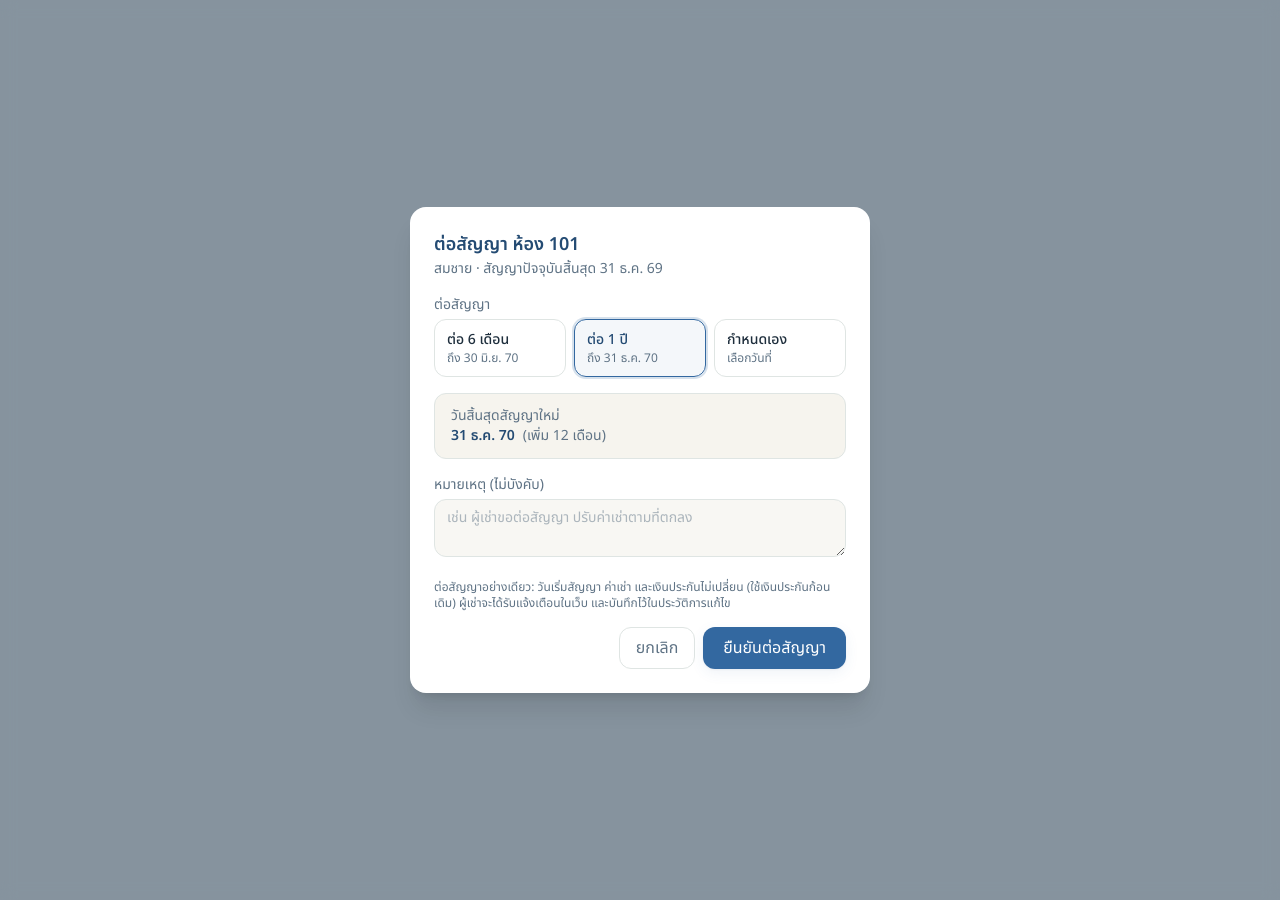
Test: RenewContractModal › กำหนดเอง: ยังไม่เลือกวัน กดยืนยันไม่ได้ และไม่ส่งคำสั่ง
Click the button "กำหนดเอง เลือกวันที่" at (780, 348), box [714,319,846,377]
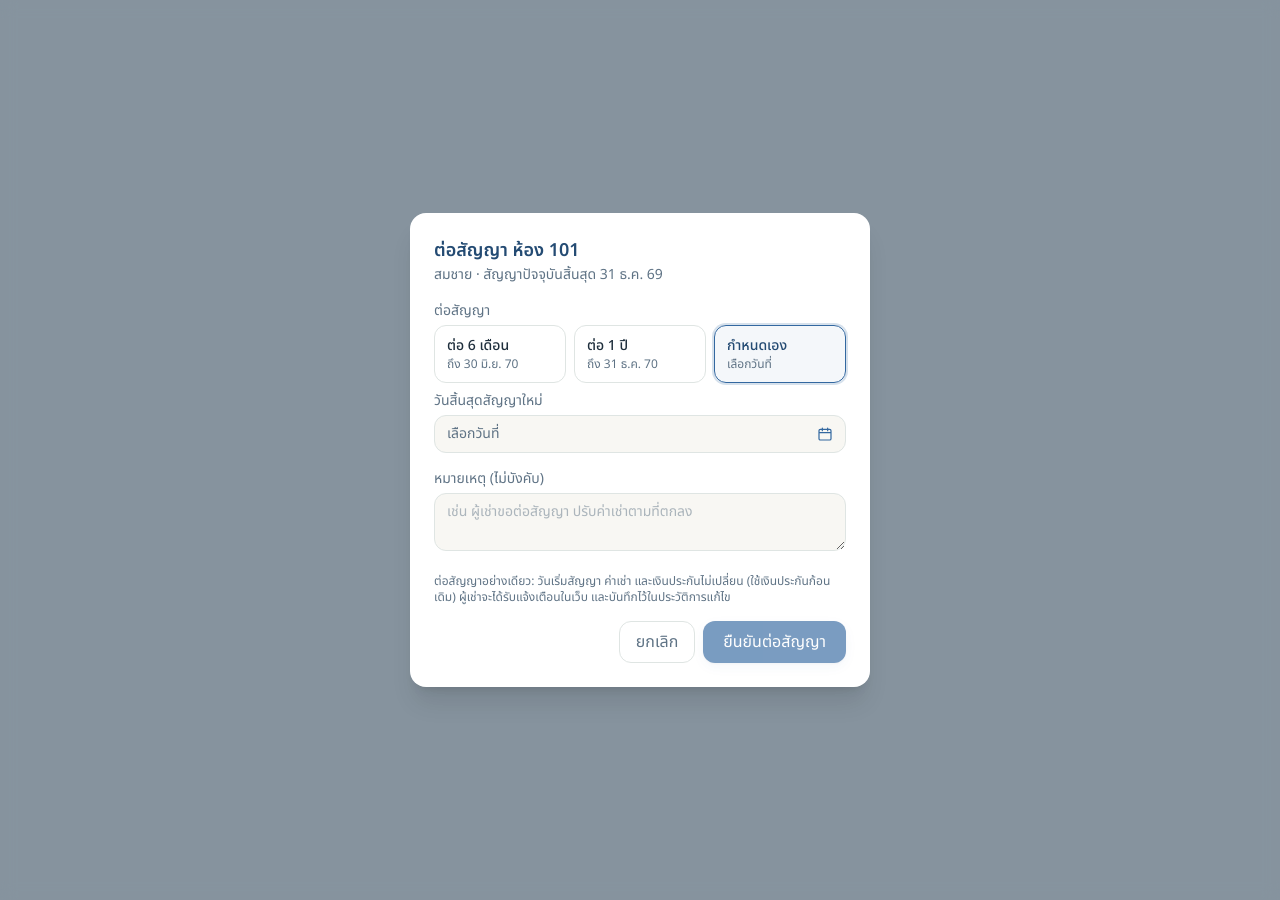
Now the button "ยืนยันต่อสัญญา" is disabled, box [703,621,846,663]
Submit the dialog, box [410,213,870,687]
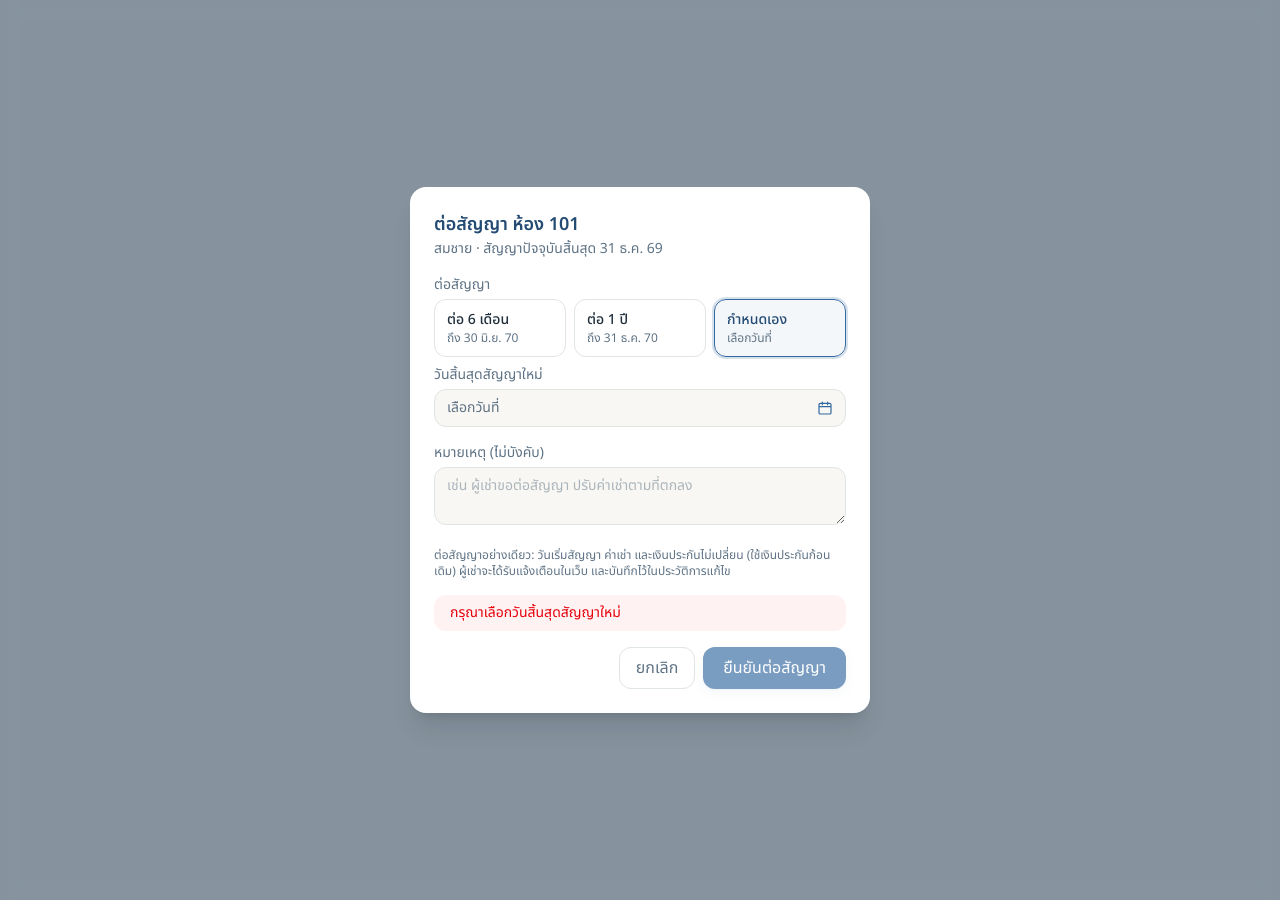
Now the text "กรุณาเลือกวันสิ้นสุดสัญญาใหม่" is shown, box [434,595,846,631]
